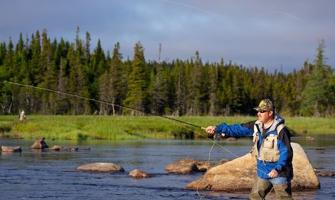person: (206, 100, 294, 200)
